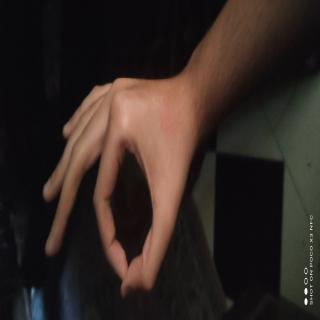Space: (3, 80, 124, 320)
